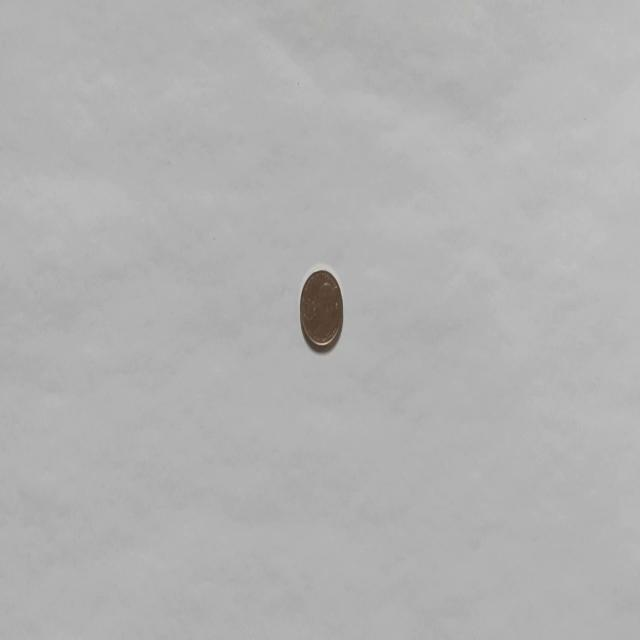seribu rupiah koin: (298, 264, 344, 353)
